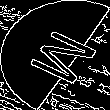M_SE: (13, 22, 97, 88)
